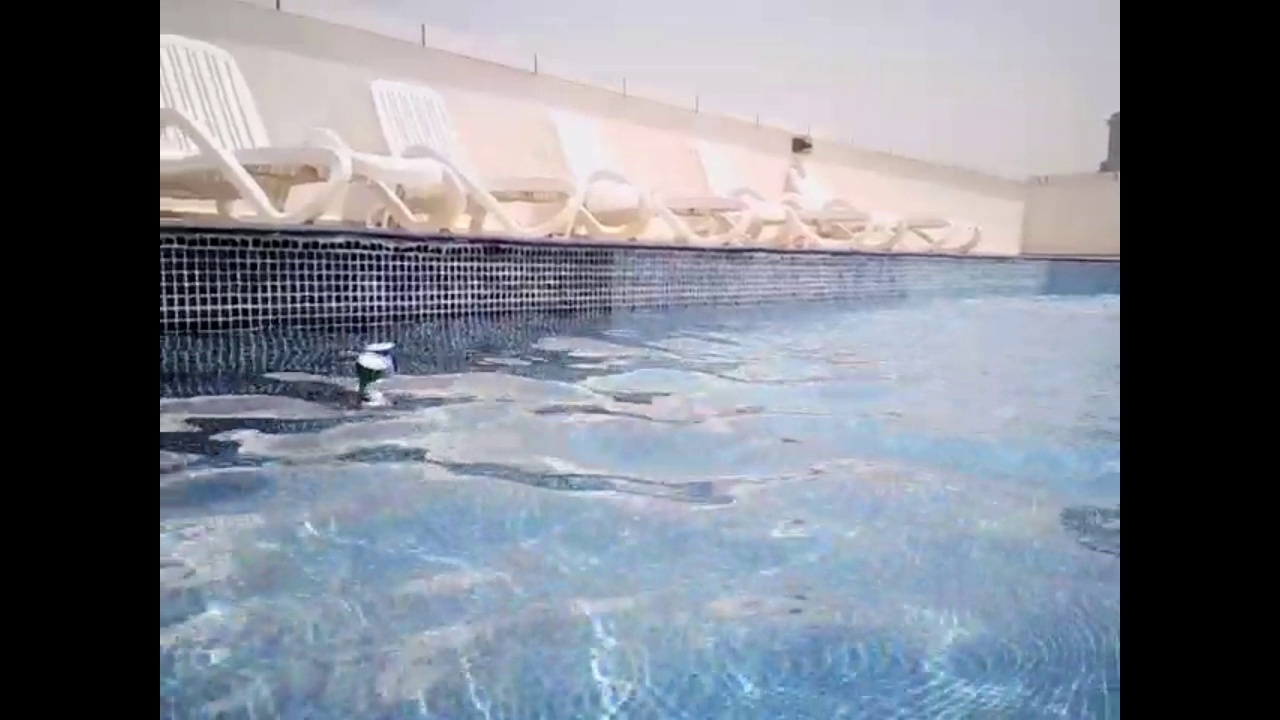debris: (352, 347, 390, 417), (365, 334, 401, 385)
